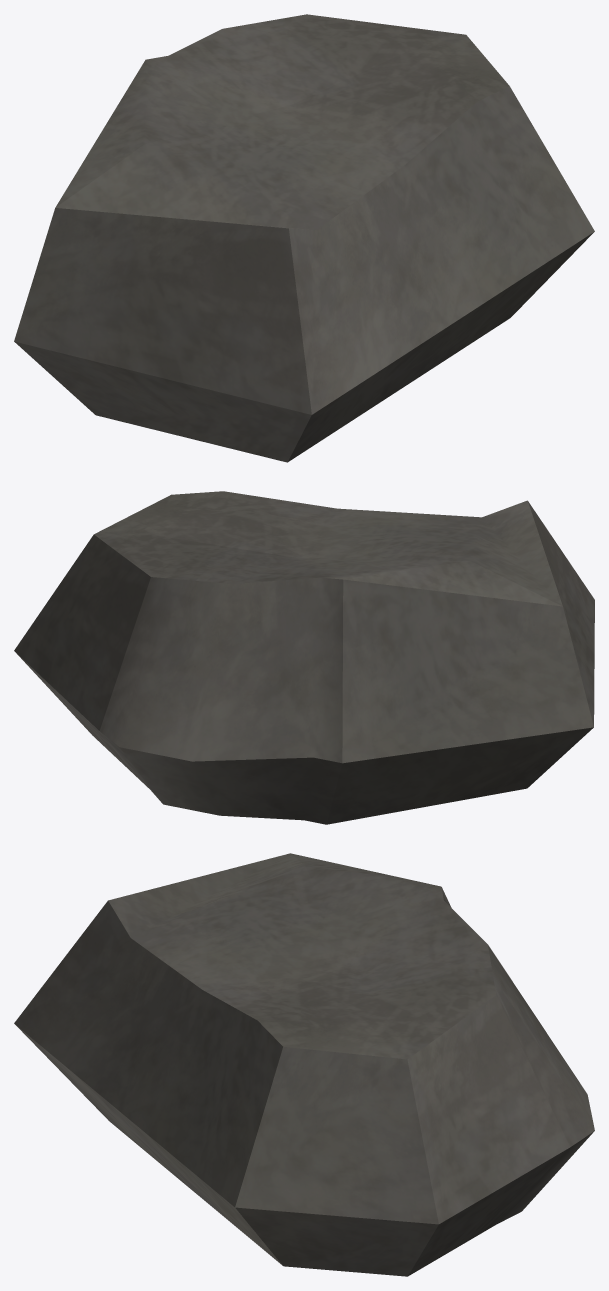
Rendered from ZachMesaRock37.fbx.
The picture shows the model from 3 angles, top to bottom: view 1: azimuth 30°, elevation 25°; view 2: azimuth 150°, elevation 25°; view 3: azimuth 270°, elevation 25°; orthographic projection. The views are drawn at different scales.
Parts seen in each view (by area): view 1: ZachMesaRock37; view 2: ZachMesaRock37; view 3: ZachMesaRock37.
Part boxes in pixels (box(x1,y1,x2,y2)): ZachMesaRock37: box(14, 14, 594, 462); ZachMesaRock37: box(14, 491, 594, 824); ZachMesaRock37: box(14, 853, 594, 1276).
Size of the model in its own units: 2.04 by 0.883 by 1.86.
